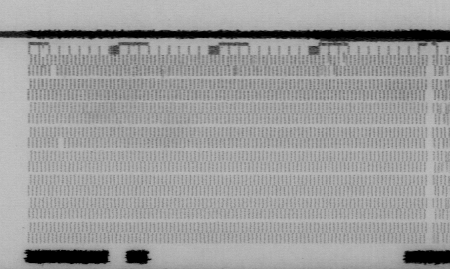Broken hole: (54, 137, 66, 150), (48, 65, 59, 78)
Oblique printing: (438, 55, 450, 126), (321, 52, 349, 78), (437, 184, 450, 232), (227, 64, 245, 78), (37, 54, 49, 67)
